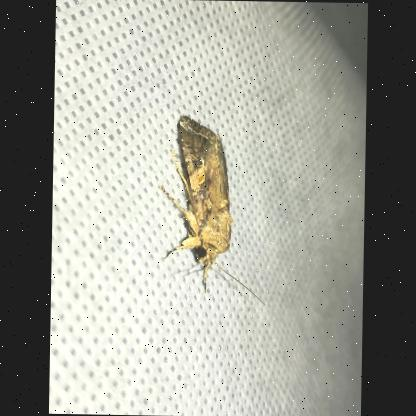Fall Armyworm Moth: (154, 111, 270, 307)
